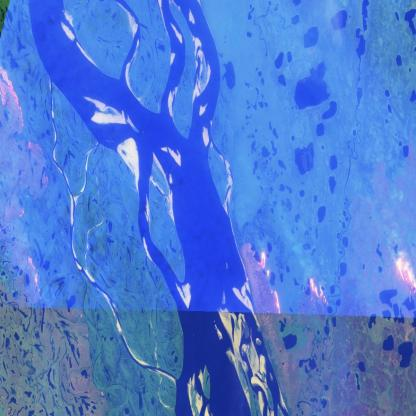fire: (254, 247, 286, 325), (388, 250, 416, 296), (303, 271, 335, 311), (24, 250, 44, 297)
